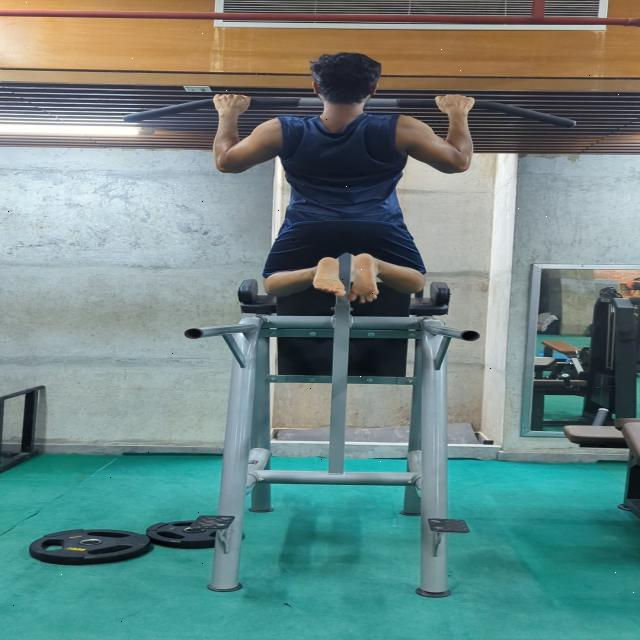Normal_PullUps: (195, 47, 484, 306)
